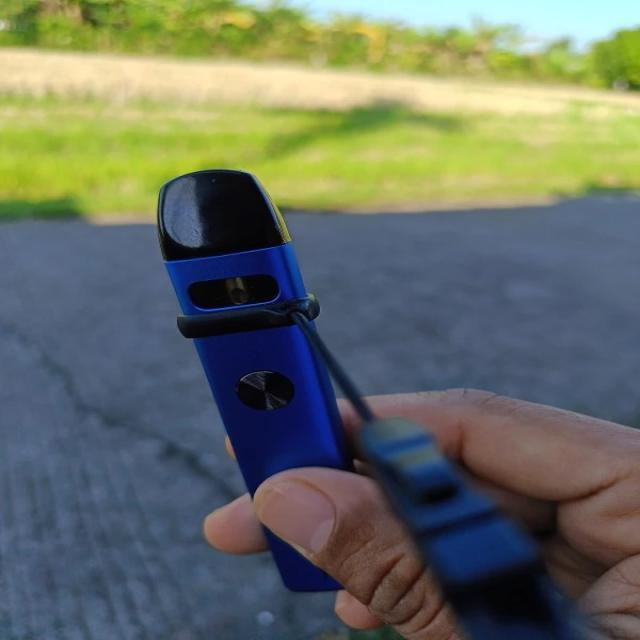Hazard: (154, 170, 373, 590)
